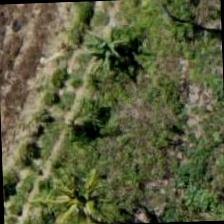Kelapa_Sawit: (37, 138, 131, 223)
